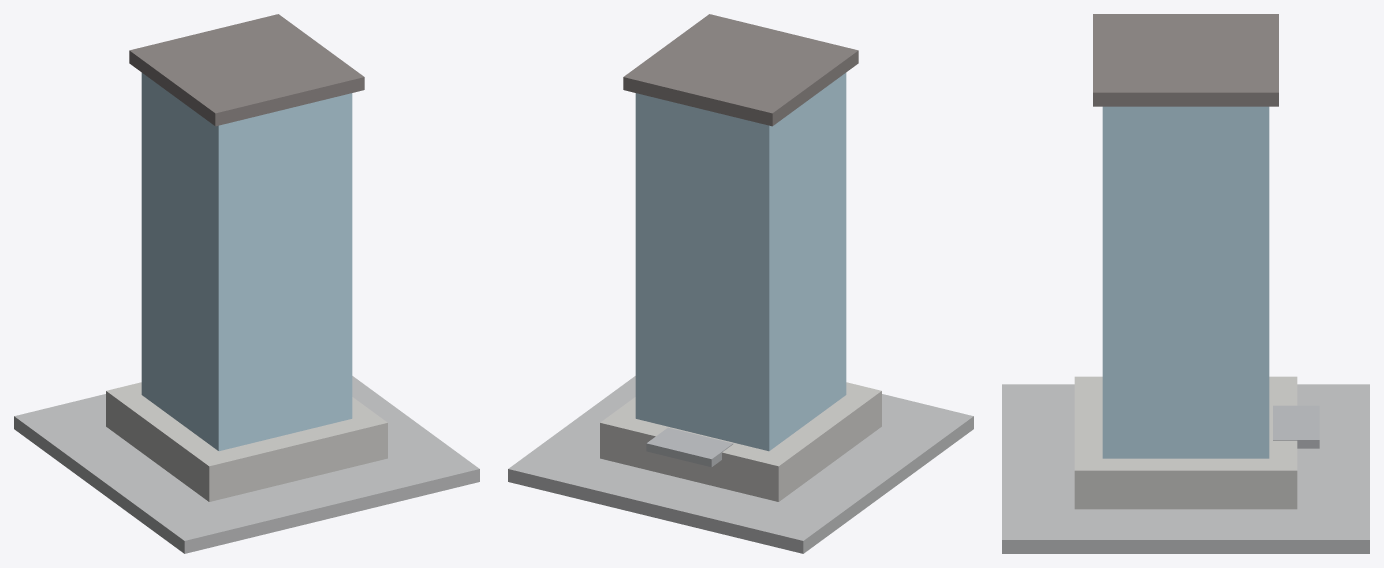
File: residential_tower.glb
3 views of the same model, side by side, from view 1: azimuth 30°, elevation 25°; view 2: azimuth 150°, elevation 25°; view 3: azimuth 270°, elevation 25° (orthographic). The views are drawn at different scales.
Parts seen in each view (by area): view 1: tower, plaza, roof, podium; view 2: tower, plaza, roof, podium, entry_canopy; view 3: tower, plaza, roof, podium, entry_canopy.
Part boxes in pixels (x1,y1,x2,y2): tower: [141, 73, 352, 451]; plaza: [14, 376, 479, 553]; roof: [129, 14, 364, 126]; podium: [106, 382, 387, 501]; tower: [635, 73, 846, 451]; plaza: [508, 376, 973, 553]; roof: [623, 14, 858, 126]; podium: [600, 382, 881, 501]; entry_canopy: [646, 427, 733, 467]; tower: [1102, 106, 1269, 458]; plaza: [1002, 384, 1369, 553]; roof: [1093, 14, 1278, 106]; podium: [1074, 376, 1297, 509]; entry_canopy: [1273, 405, 1319, 448].
Size of the model in its own units: 1.9 by 2.41 by 1.9.
